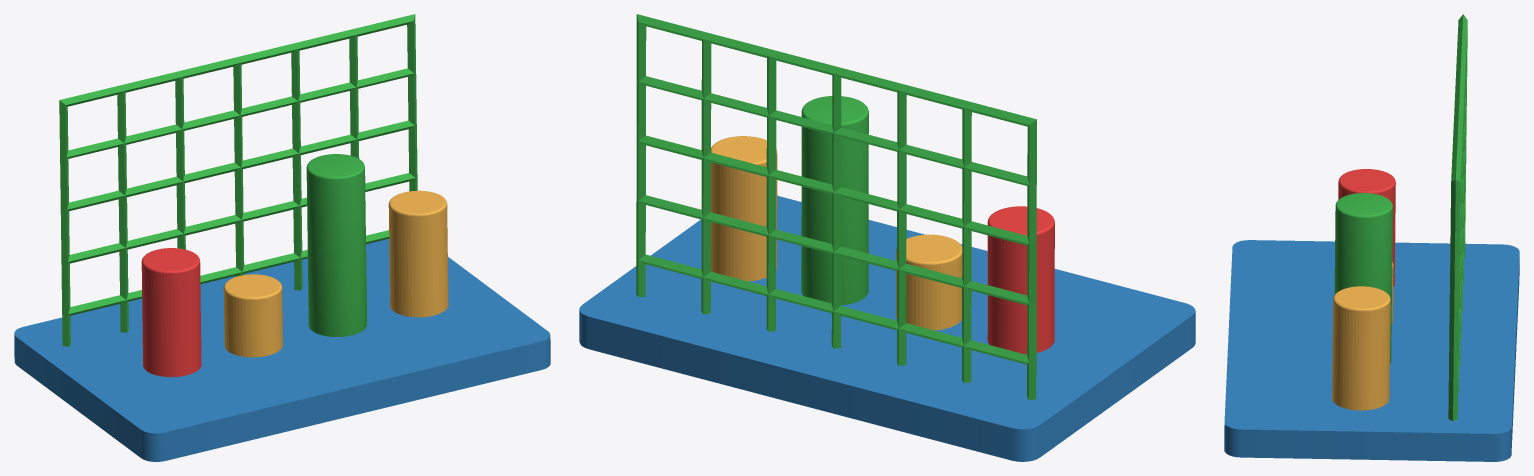
File: Graphs.glb
The picture shows the model from 3 angles, left to right: view 1: azimuth 30°, elevation 25°; view 2: azimuth 150°, elevation 25°; view 3: azimuth 270°, elevation 25°; orthographic projection. The views are drawn at different scales.
Parts seen in each view (by area): view 1: Cube.002, Plane.162, Cylinder.008, Cylinder.006, Cylinder.009, Cylinder.007; view 2: Cube.002, Plane.162, Cylinder.008, Cylinder.006, Cylinder.009, Cylinder.007; view 3: Cube.002, Cylinder.009, Cylinder.008, Plane.162, Cylinder.006.
Part boxes in pixels (left/top/right/bottom): Cube.002: left=14, top=239, right=550, bottom=461; Plane.162: left=59, top=14, right=417, bottom=346; Cylinder.008: left=306, top=154, right=366, bottom=336; Cylinder.006: left=141, top=248, right=201, bottom=376; Cylinder.009: left=388, top=190, right=448, bottom=317; Cylinder.007: left=223, top=274, right=282, bottom=357; Cube.002: left=579, top=195, right=1195, bottom=461; Plane.162: left=636, top=14, right=1036, bottom=400; Cylinder.008: left=801, top=96, right=868, bottom=305; Cylinder.006: left=987, top=206, right=1054, bottom=354; Cylinder.009: left=711, top=136, right=777, bottom=281; Cylinder.007: left=896, top=234, right=962, bottom=330; Cube.002: left=1224, top=240, right=1519, bottom=461; Cylinder.009: left=1332, top=286, right=1390, bottom=410; Cylinder.008: left=1334, top=193, right=1392, bottom=363; Plane.162: left=1448, top=14, right=1467, bottom=420; Cylinder.006: left=1338, top=169, right=1395, bottom=286.
Bounding box in the file's own units: 4.88 × 3.18 × 3.13.
